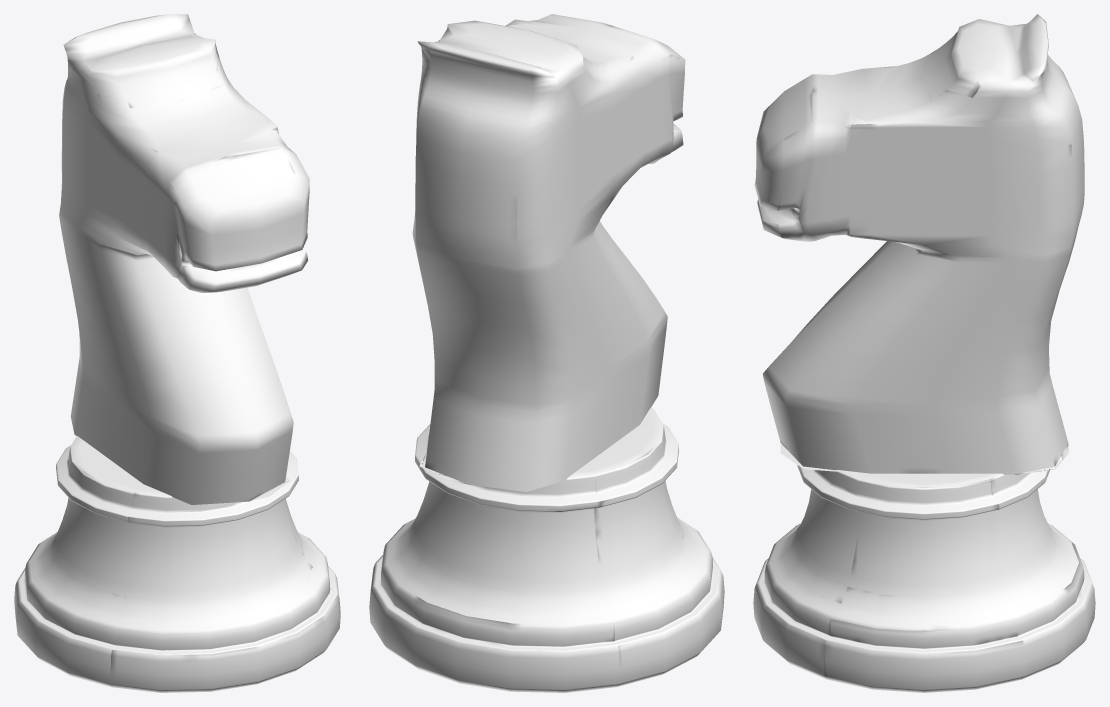
File: HorseWhite.fbx
The picture shows the model from 3 angles, left to right: view 1: azimuth 30°, elevation 25°; view 2: azimuth 150°, elevation 25°; view 3: azimuth 270°, elevation 25°; orthographic projection. The views are drawn at different scales.
Parts seen in each view (by area): view 1: Horse; view 2: Horse; view 3: Horse.
Part boxes in pixels (x1,y1,x2,y2): Horse: (14, 14, 340, 692); Horse: (369, 14, 724, 692); Horse: (753, 14, 1095, 692).
Size of the model in its own units: 2.27 by 4.27 by 2.27.
